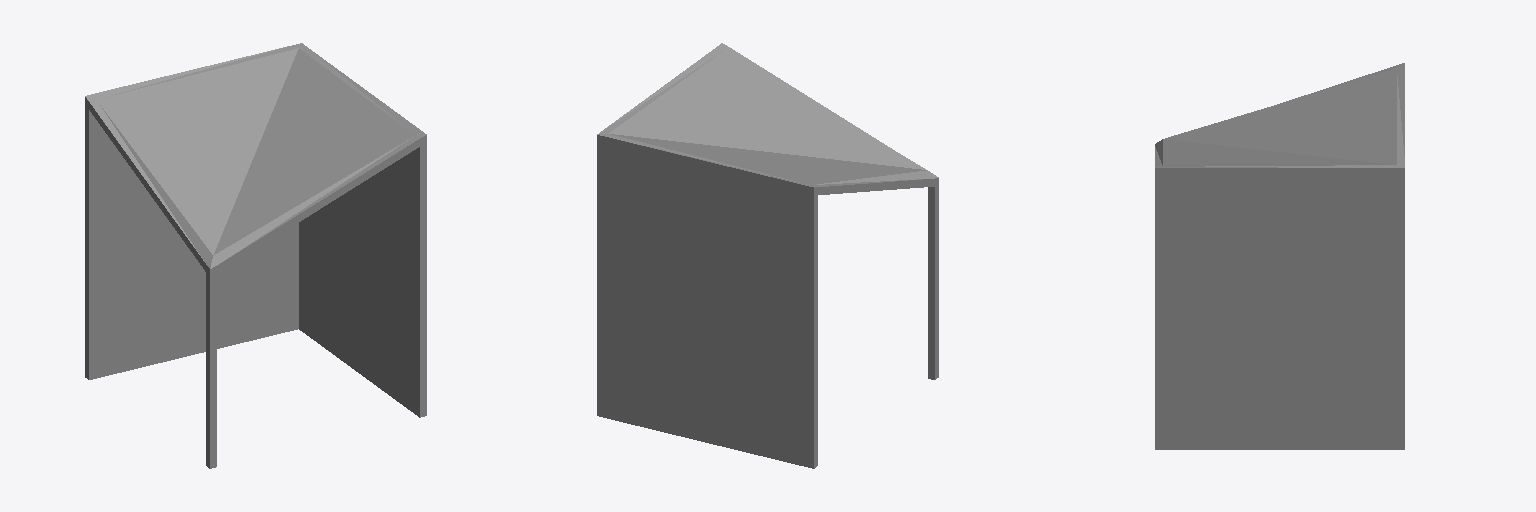
Rendered from salle_angle.obj.
3 renders of one model, left to right at view 1: azimuth 30°, elevation 25°; view 2: azimuth 150°, elevation 25°; view 3: azimuth 270°, elevation 25°, orthographic.
Parts seen in each view (by area): view 1: Cube; view 2: Cube; view 3: Cube.
Boxes of the visible parts, box(x1,y1,x2,y2) form: Cube: box(85, 43, 426, 468); Cube: box(597, 43, 938, 468); Cube: box(1155, 63, 1404, 449).
Size of the model in its own units: 2 by 2.48 by 2.